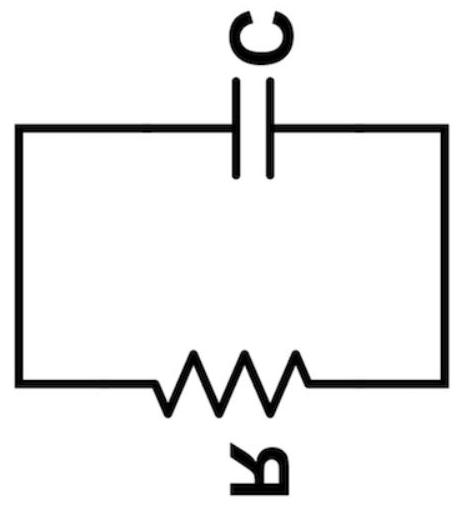Capacitor: (197, 65, 314, 201)
